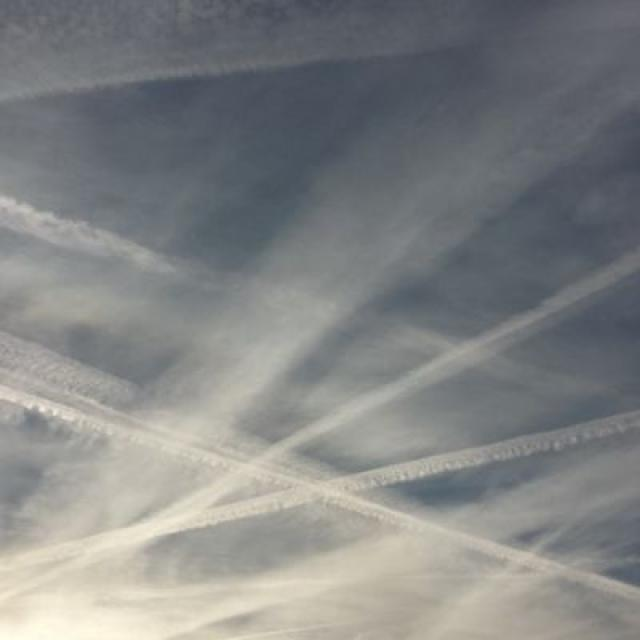Ct: (1, 31, 640, 640)
